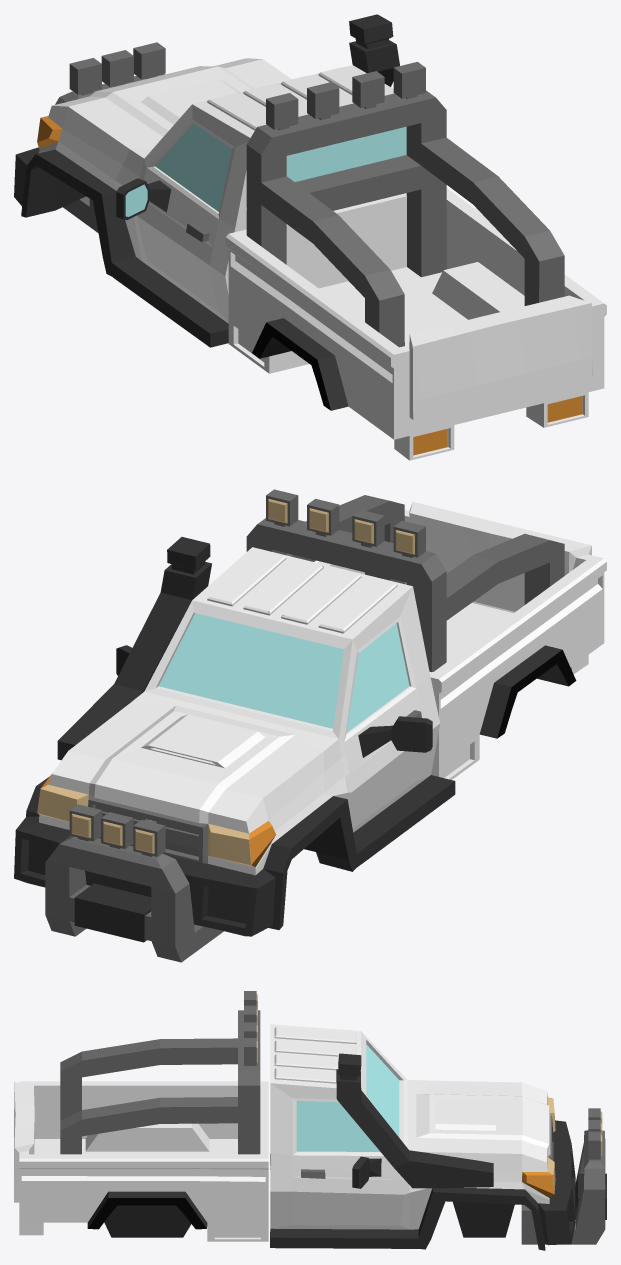
File: chassis.gltf
3 views of the same model, one above another, from view 1: azimuth 30°, elevation 25°; view 2: azimuth 150°, elevation 25°; view 3: azimuth 270°, elevation 25° (orthographic). The views are drawn at different scales.
Visible parts, largest first — view 1: Snorkel; view 2: Snorkel; view 3: Snorkel.
Boxes of the visible parts, x1=… form: Snorkel: x1=14, y1=14, x2=606, y2=460; Snorkel: x1=14, y1=489, x2=606, y2=962; Snorkel: x1=14, y1=991, x2=606, y2=1250.
Bounding box in the file's own units: 3.88 × 3.26 × 8.39.
1 material, 1 textured.
